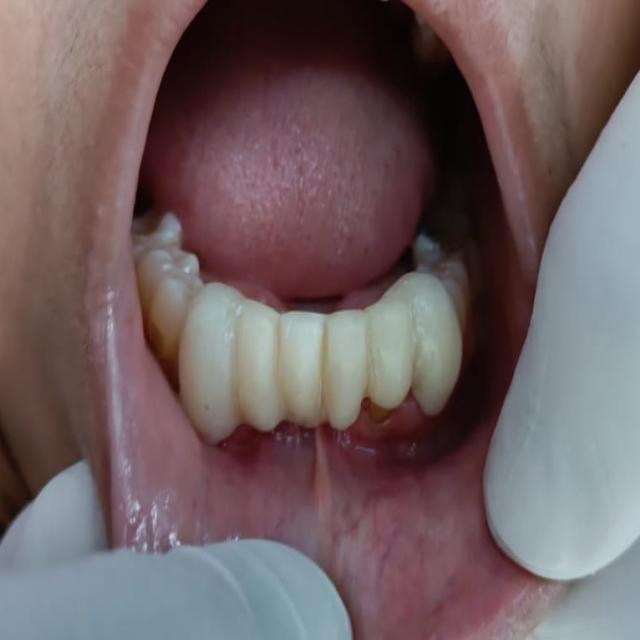No Cancer: (168, 48, 452, 411)
